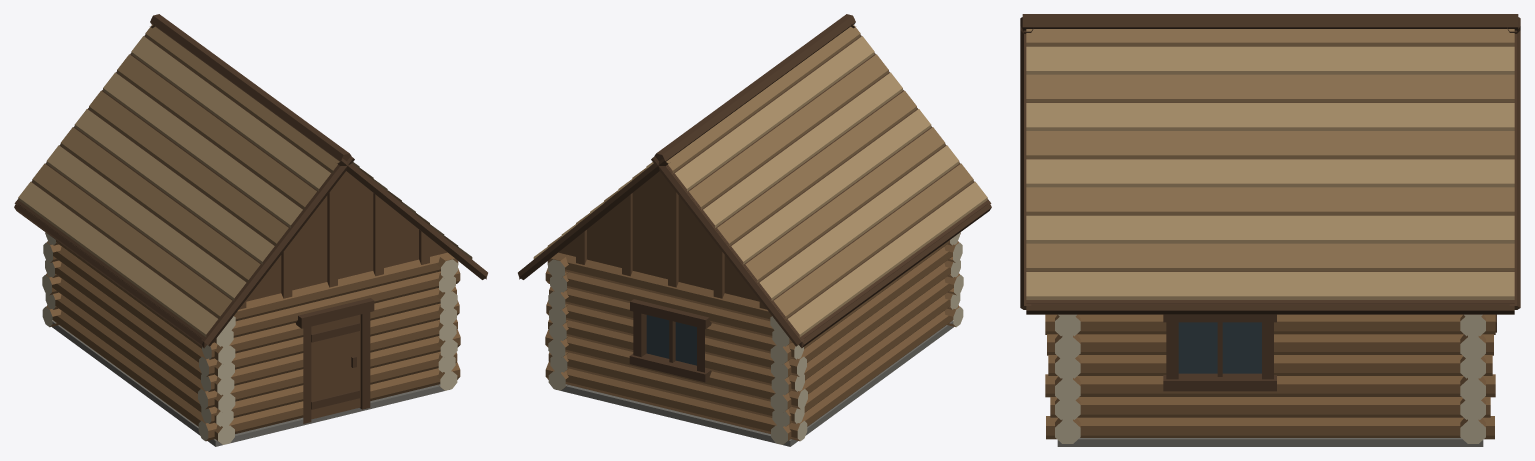
File: log-cabin-4fac3b.glb
3 views of the same model, side by side, from view 1: azimuth 30°, elevation 25°; view 2: azimuth 150°, elevation 25°; view 3: azimuth 270°, elevation 25° (orthographic). The views are drawn at different scales.
Visible parts, largest first — view 1: object 1, door; view 2: object 1; view 3: object 1.
Part boxes in pixels (left/top/right/bottom): object 1: left=14, top=14, right=487, bottom=446; door: left=311, top=314, right=360, bottom=419; object 1: left=518, top=14, right=991, bottom=446; object 1: left=1020, top=14, right=1520, bottom=446.
Bounding box in the file's own units: 6 × 5.47 × 6.96.
